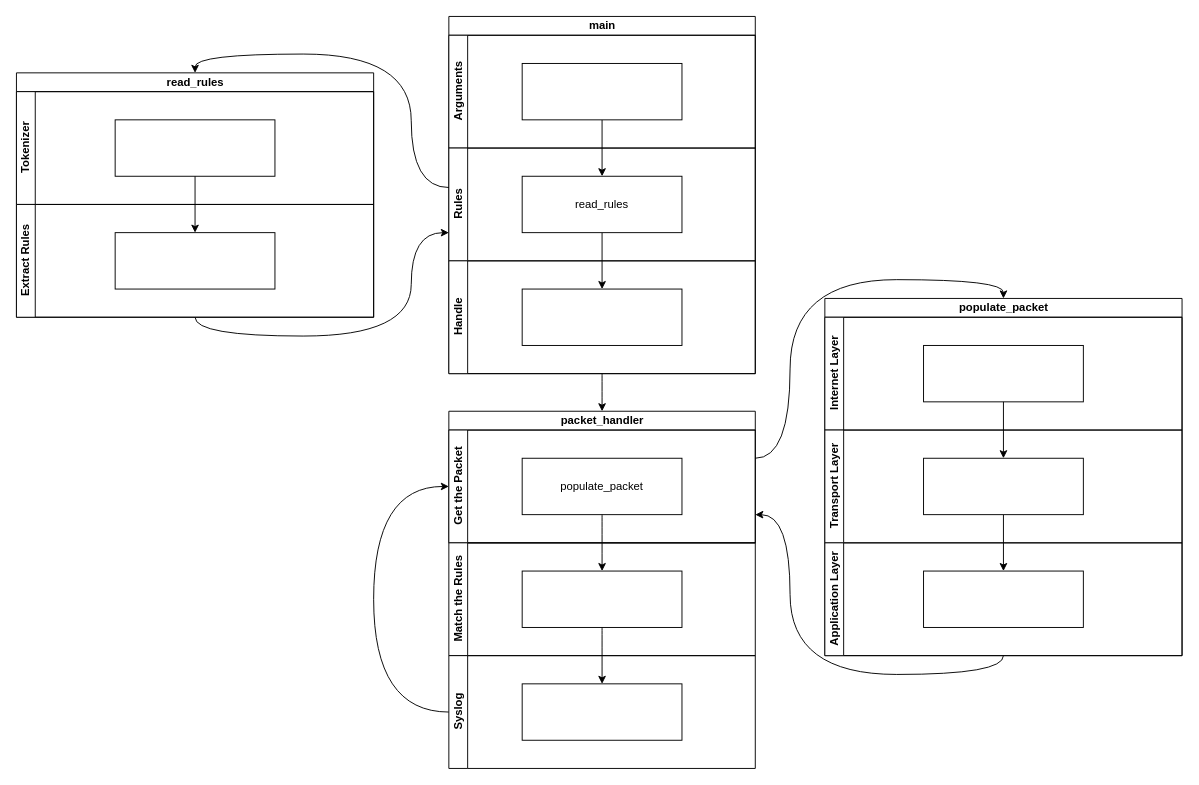
Some shapes in this 1199 by 785 pixel diagram are drawn without their labels. Here are the shapes that lost their labels. From the top down, the centre of each, then its label:
the point at 601,91: parse_arguments
the point at 194,147: tokenize
the point at 194,260: extract_rules
the point at 601,316: get_activated_handle
the point at 1003,373: populate_internet_layer
the point at 1003,486: populate_transport_layer
the point at 601,598: rules_matcher
the point at 1003,598: populate_application_layer
the point at 601,711: write_syslog
